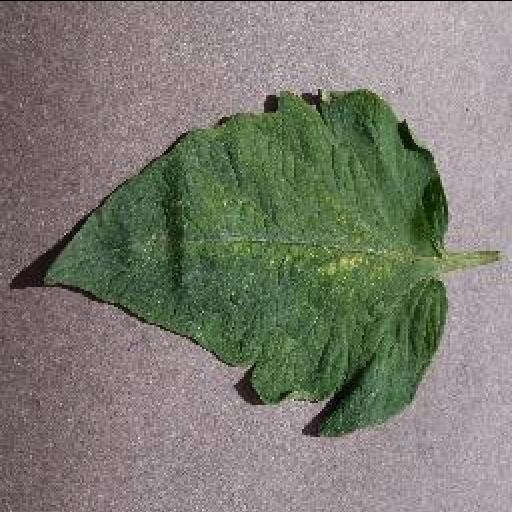disease_tomato: (44, 86, 446, 436)
